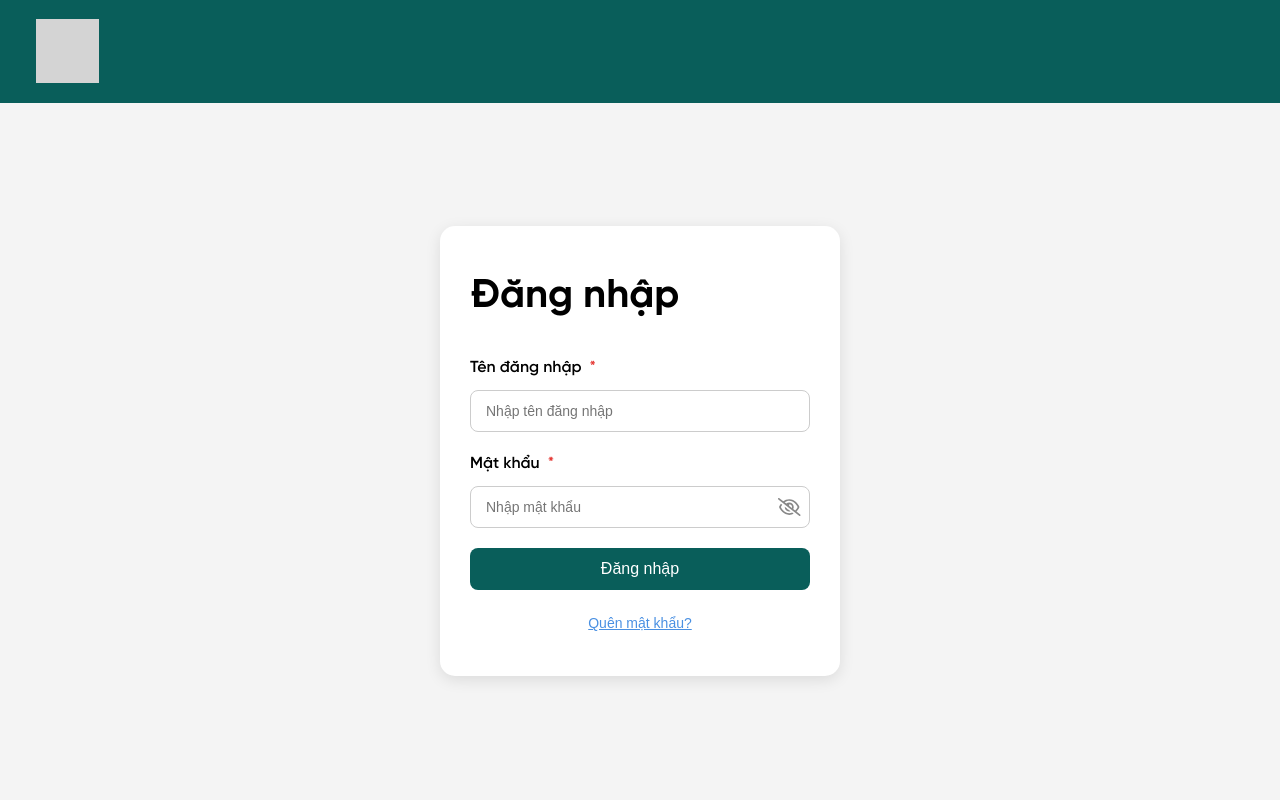
LoginPage › switches to forgot password form when clicking forgot password link
The image size is (1280, 800).
Click the button "Quên mật khẩu?": (640, 623) top-left (583, 610), bottom-right (697, 636)
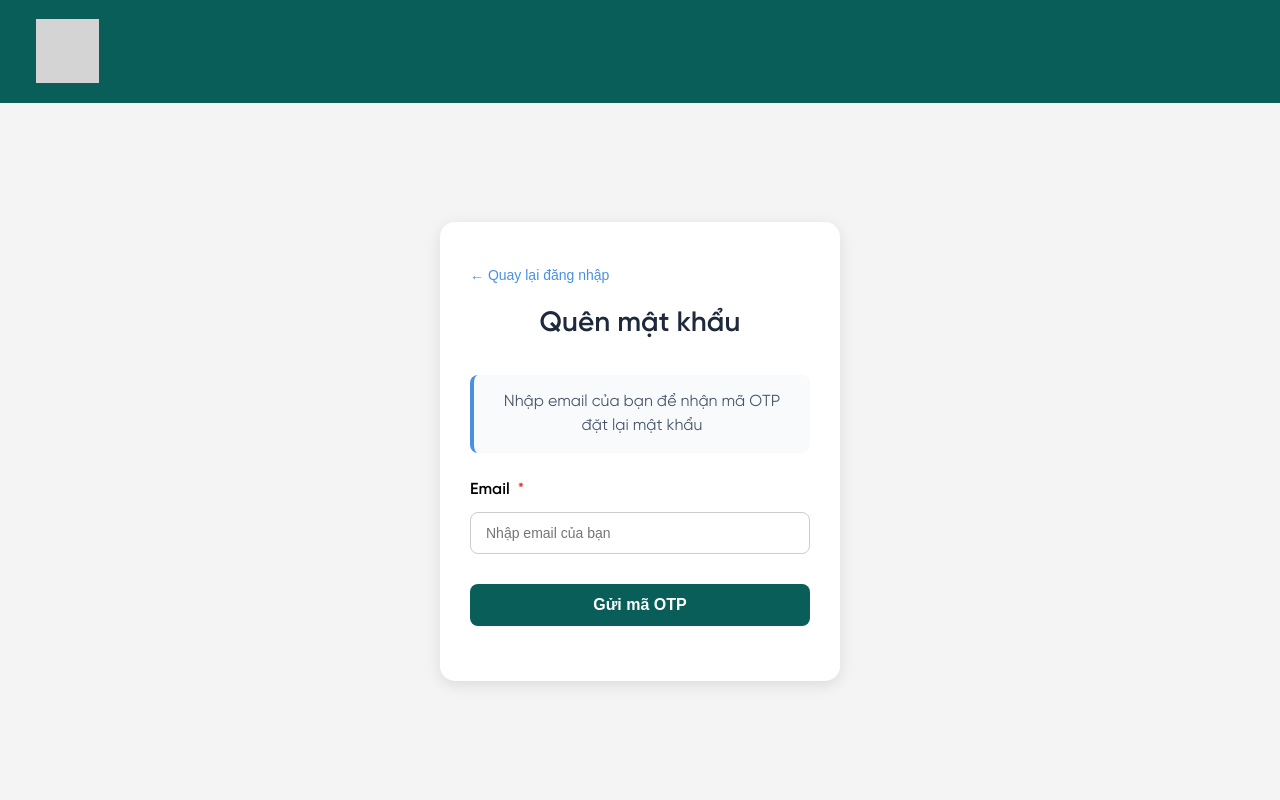
expect the heading "Quên mật khẩu" is shown: met, box top-left (540, 309), bottom-right (740, 338)
expect the field with placeholder "Nhập email của bạn" is shown: met, box top-left (470, 512), bottom-right (810, 554)
